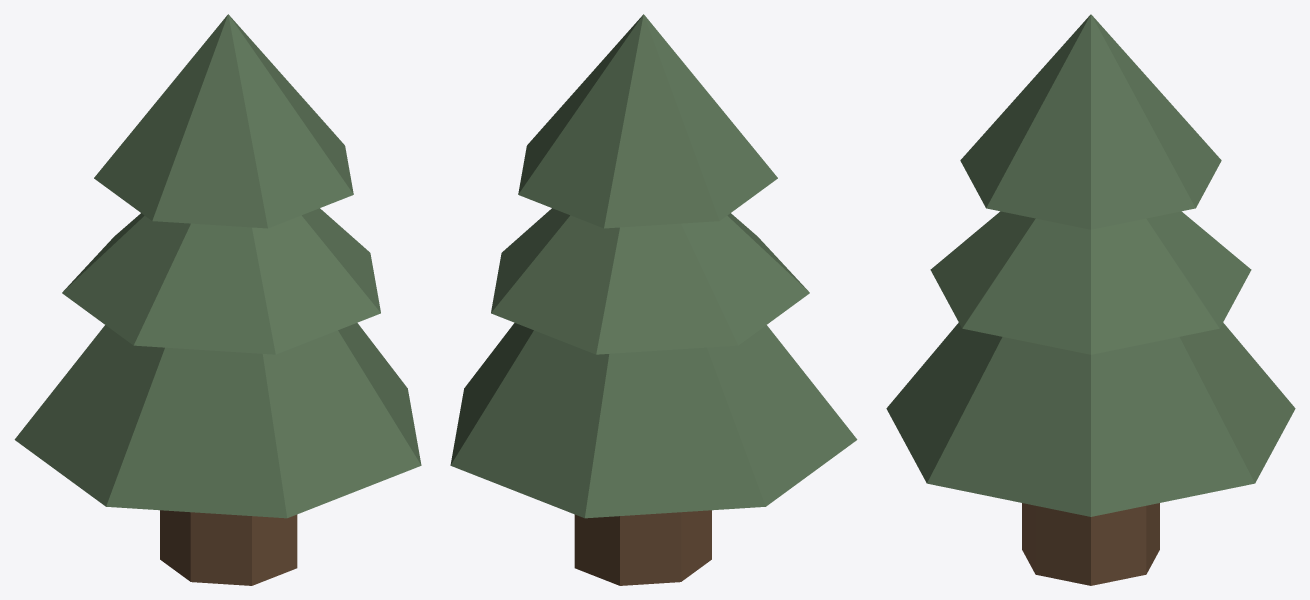
Rendered from Boompie.fbx.
The picture shows the model from 3 angles, left to right: view 1: azimuth 30°, elevation 25°; view 2: azimuth 150°, elevation 25°; view 3: azimuth 270°, elevation 25°; orthographic projection.
Visible parts, largest first — view 1: Boom; view 2: Boom; view 3: Boom.
Boxes of the visible parts, x1,y1,x2,y2 form: Boom: (14,14,421,585); Boom: (450,14,857,585); Boom: (886,14,1295,585).
Size of the model in its own units: 0.9046 by 1.35 by 0.9279.
